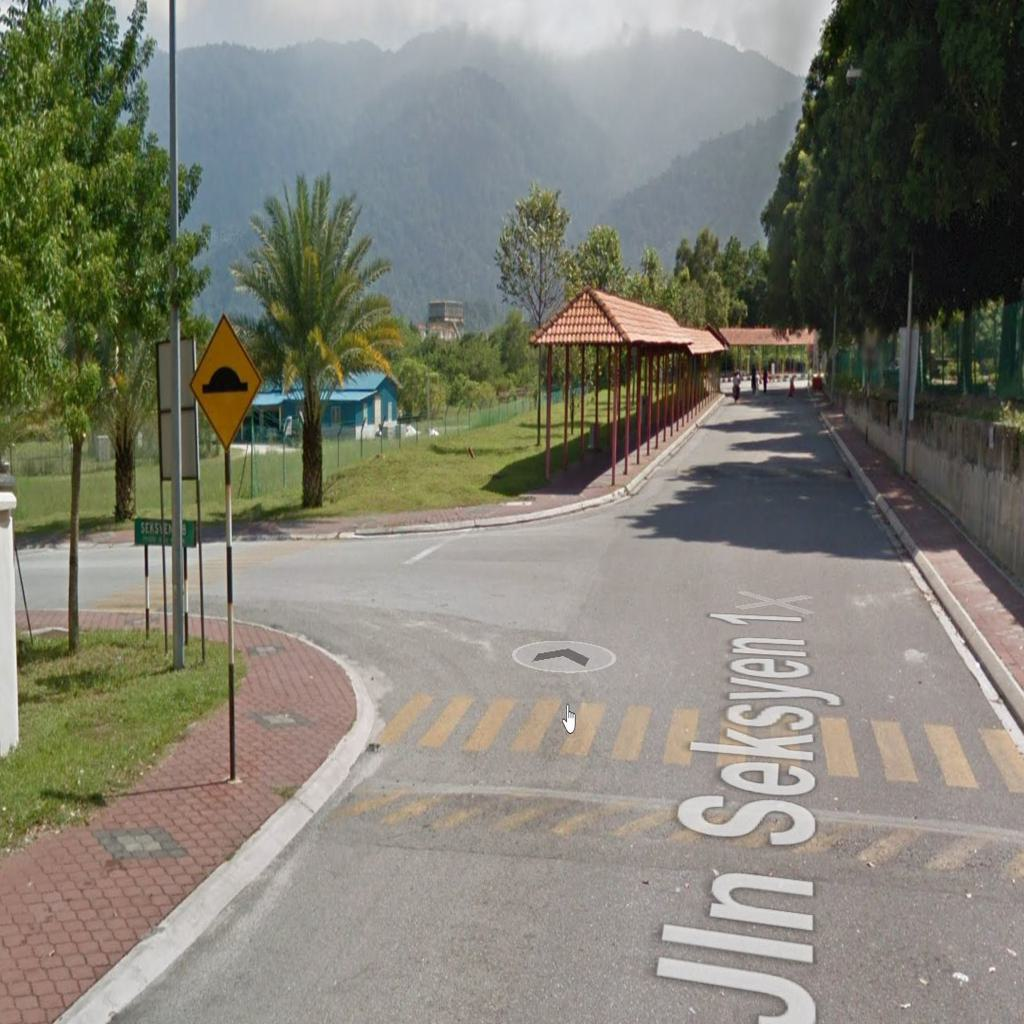Junction: (77, 495, 597, 718)
